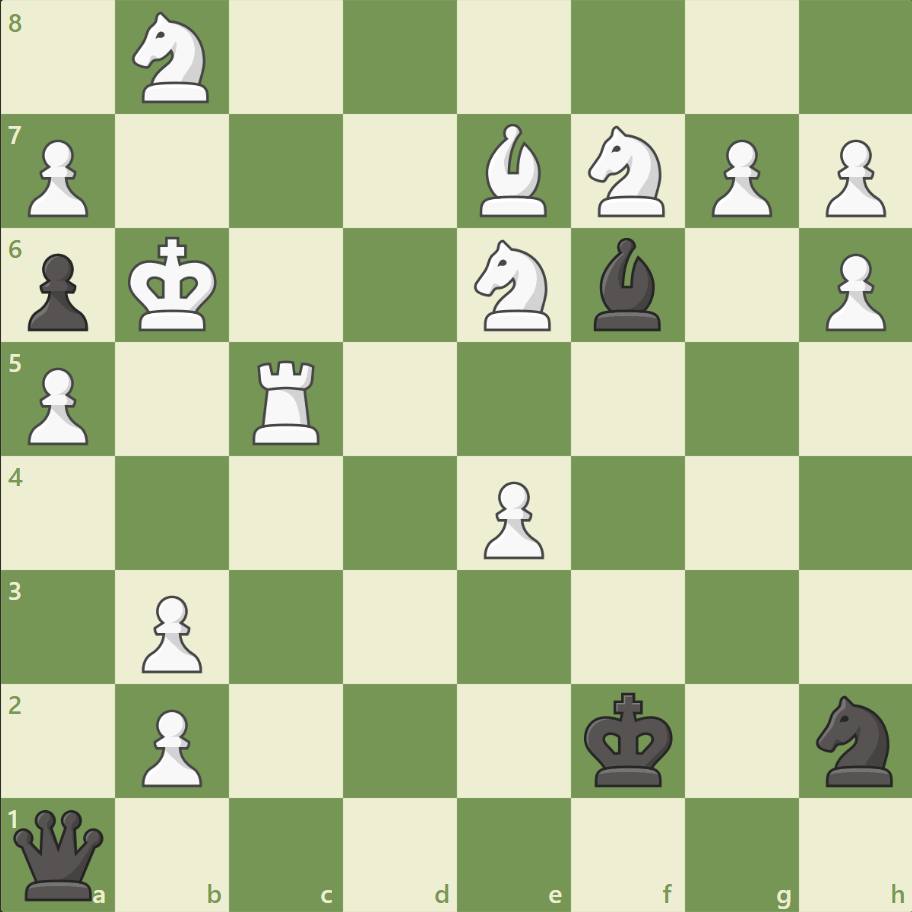B: (471, 120, 555, 222)
K: (124, 231, 224, 339)
N: (124, 7, 222, 110), (465, 234, 562, 337), (579, 121, 676, 223)
P: (20, 132, 95, 223), (701, 132, 776, 223), (20, 359, 95, 450), (474, 473, 549, 564), (133, 586, 208, 677), (133, 700, 208, 791), (815, 132, 889, 223), (815, 246, 889, 337)
R: (246, 352, 329, 449)
b: (585, 233, 669, 336)
k: (579, 685, 679, 793)
n: (806, 688, 903, 791)
p: (20, 246, 95, 337)
q: (10, 804, 109, 903)
